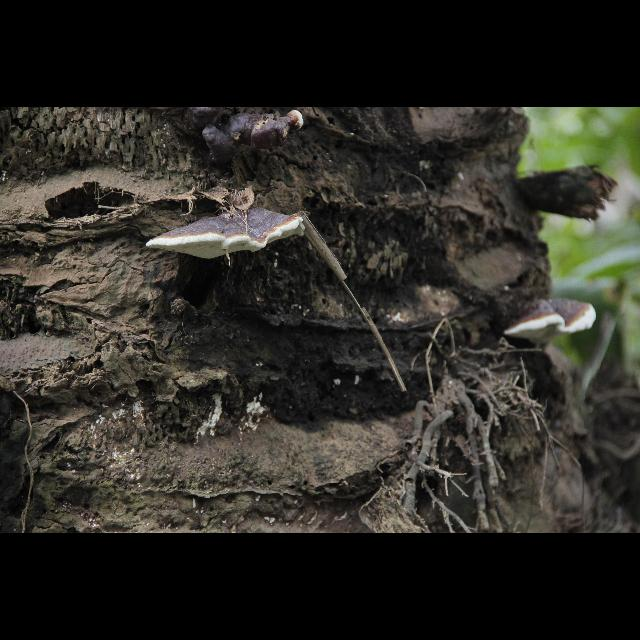ganoderma: (146, 206, 306, 260), (182, 109, 286, 168), (504, 299, 598, 346)
primordium: (287, 110, 305, 132)
